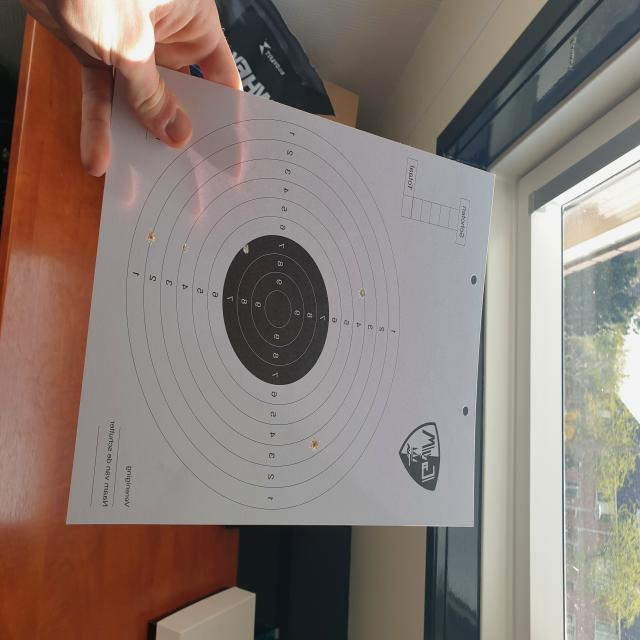2: (145, 228, 156, 247)
3: (308, 438, 320, 452)
4: (358, 288, 367, 300), (181, 244, 189, 253)
7: (242, 243, 250, 255)
Target: (125, 120, 400, 511)
black_contour: (222, 234, 329, 385)
